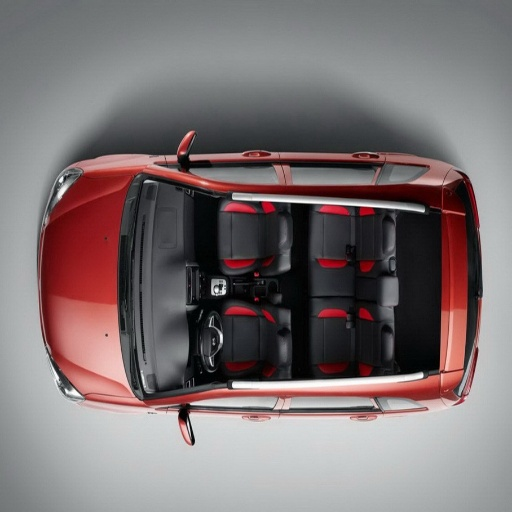trunk: (363, 220, 467, 354), (46, 433, 177, 495), (162, 266, 184, 348)
